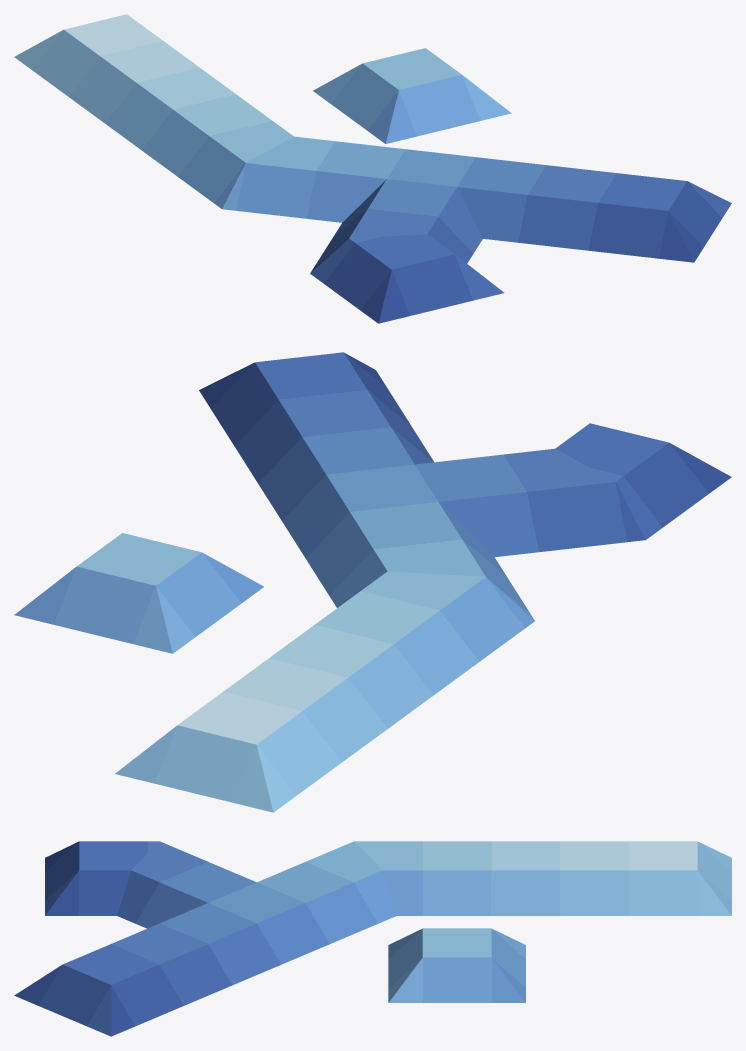
The model's file is rune_style_l.obj.
The picture shows the model from 3 angles, top to bottom: view 1: azimuth 30°, elevation 25°; view 2: azimuth 150°, elevation 25°; view 3: azimuth 270°, elevation 25°; orthographic projection. The views are drawn at different scales.
Visible parts, largest first — view 1: RUNE_STYLE_L_Plane.025; view 2: RUNE_STYLE_L_Plane.025; view 3: RUNE_STYLE_L_Plane.025.
Boxes of the visible parts, <box> form: RUNE_STYLE_L_Plane.025: <box>14,14,731,323</box>; RUNE_STYLE_L_Plane.025: <box>14,352,731,812</box>; RUNE_STYLE_L_Plane.025: <box>14,841,731,1036</box>.
Size of the model in its own units: 0.3848 by 0.0312 by 0.6531.
